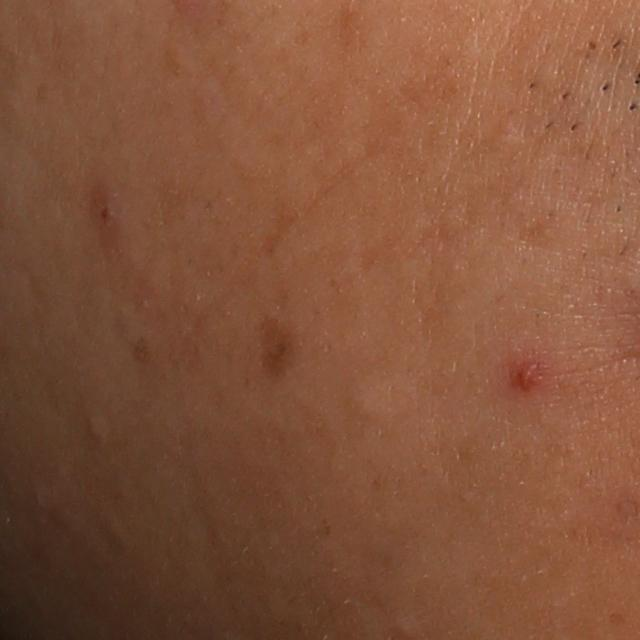comedo: (346, 382, 389, 423), (393, 615, 414, 637)
papule: (506, 342, 553, 400), (92, 197, 119, 232)
